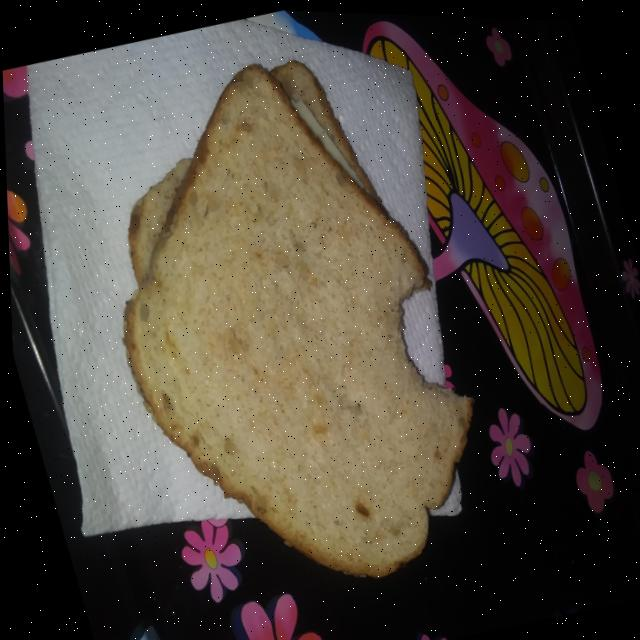Banana: (121, 63, 468, 573)
